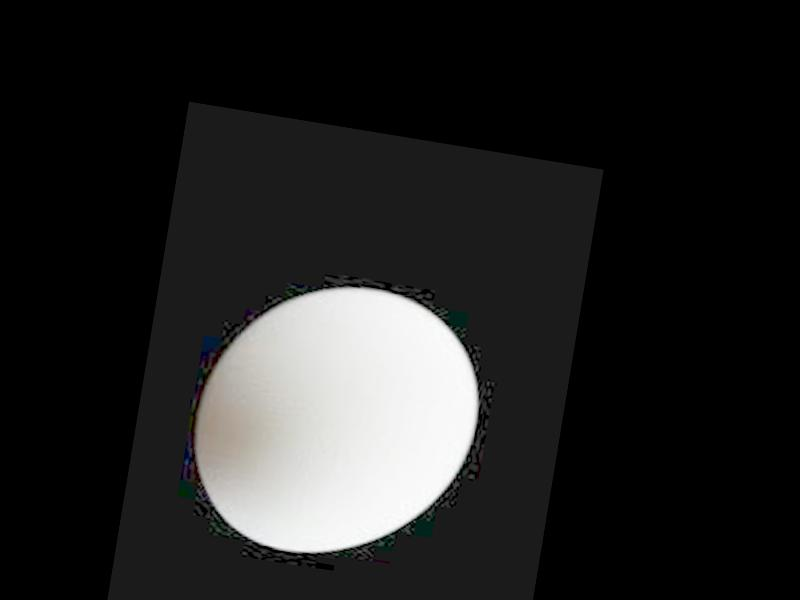Eggs: (182, 267, 493, 578)
